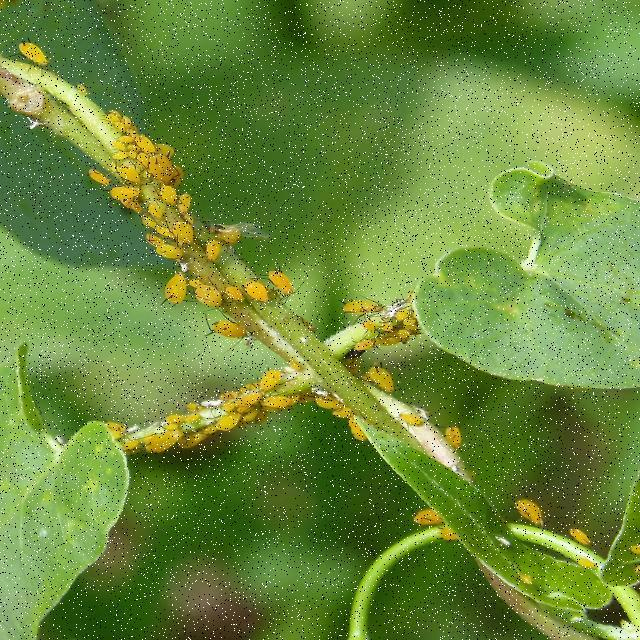Aphids: (505, 486, 555, 531), (12, 30, 61, 75), (356, 352, 404, 395), (152, 266, 201, 308), (204, 313, 257, 349), (259, 386, 305, 420), (265, 263, 305, 301), (337, 417, 378, 453), (249, 362, 293, 394), (82, 159, 119, 190), (440, 417, 471, 450)
